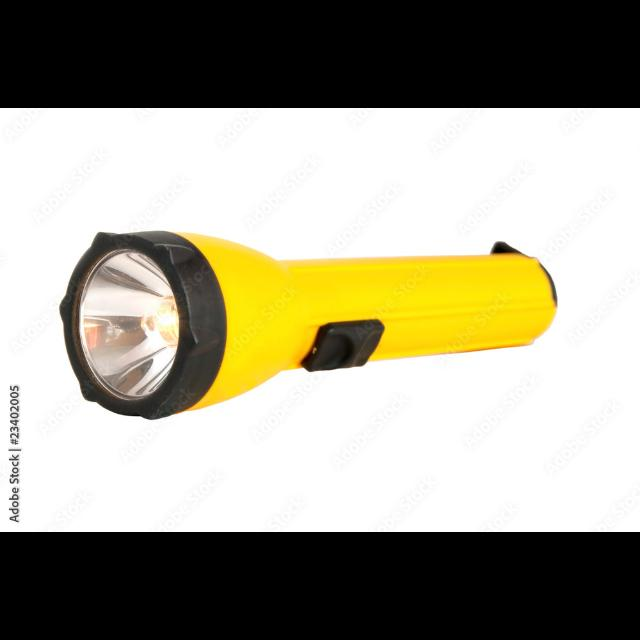Flashlight: (54, 221, 562, 427)
